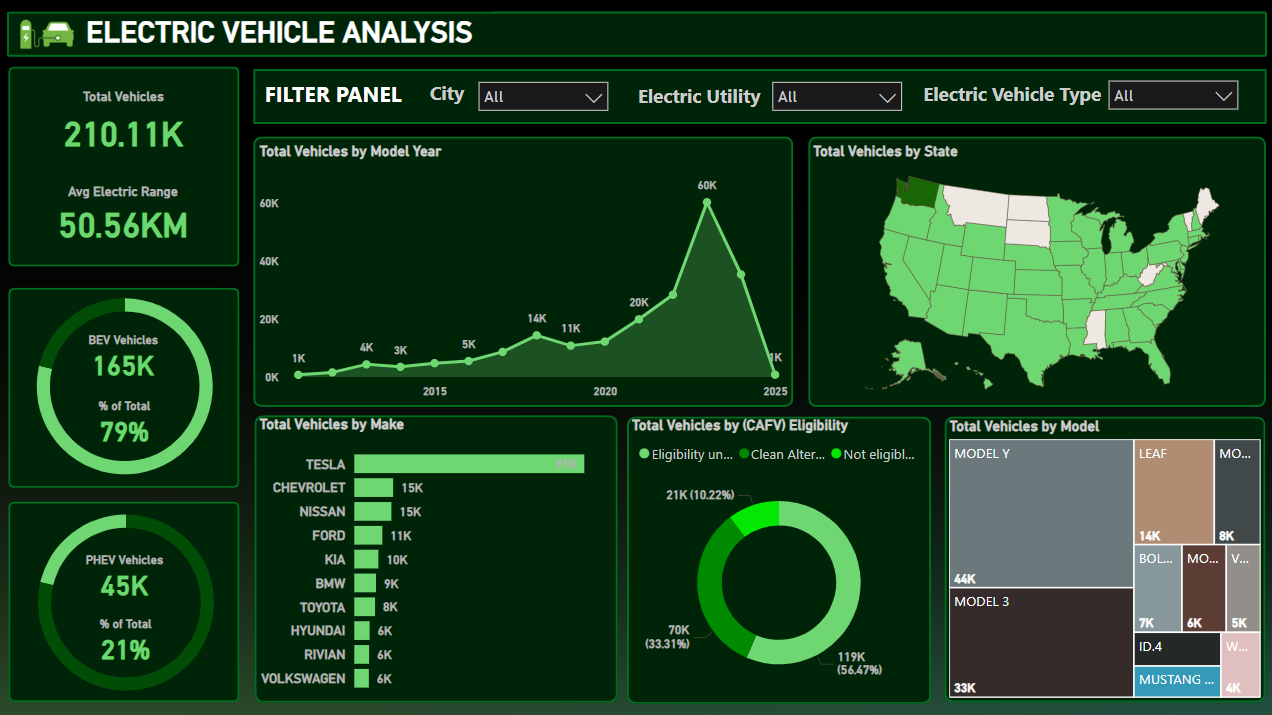

This screenshot's page, from the dashboard's own definition file:
{"tool":"powerbi","page":{"name":"Page 1","canvas":[1280,720],"ordinal":0},"visuals":[{"type":"shape","box":[9.5,11.9,1260,45.3],"z":0},{"type":"textbox","box":[78.7,11.5,414.5,46.2],"z":1000},{"type":"shape","box":[11.2,67.9,231.3,200.3],"z":2000},{"type":"card","title":"Total Vehicles","fields":{"Values":["Electric_Vehicle_Population_Data.Total Vehicles"]},"box":[39.3,89.4,175.2,70.3],"z":3000},{"type":"card","title":"Avg Electric Range","fields":{"Values":["Electric_Vehicle_Population_Data.Avg Range"]},"box":[54.8,184.8,141.9,63.2],"z":4000},{"type":"shape","box":[10.7,288.5,231.3,200.3],"z":5000},{"type":"shape","box":[11,503,231.3,200.7],"z":6000},{"type":"donutChart","fields":{"Category":["Electric_Vehicle_Population_Data.Electric Vehicle Type"],"Y":["Electric_Vehicle_Population_Data.Total Vehicles"]},"box":[0,272.9,255.8,230.1],"z":7000},{"type":"card","title":"BEV Vehicles ","fields":{"Values":["Electric_Vehicle_Population_Data.BEV Vehicles"]},"box":[36.7,334.1,179.9,50.2],"z":8000},{"type":"card","title":"% of Total","fields":{"Values":["Electric_Vehicle_Population_Data.% of BEV"]},"box":[37.9,400.2,179.9,50.2],"z":9000},{"type":"donutChart","fields":{"Category":["Electric_Vehicle_Population_Data.Electric Vehicle Type"],"Y":["Electric_Vehicle_Population_Data.Total Vehicles"]},"box":[1.2,488.4,255.8,230.1],"z":10000},{"type":"card","title":"PHEV Vehicles ","fields":{"Values":["Electric_Vehicle_Population_Data.PHEV Vehicles"]},"box":[37.9,553.2,179.9,50.2],"z":11000},{"type":"card","title":"% of Total","fields":{"Values":["Electric_Vehicle_Population_Data.% of PHEV"]},"box":[39.2,618.1,179.9,50.2],"z":12000},{"type":"shape","box":[255.8,69.8,1013.4,55.1],"z":13000},{"type":"shape","box":[255.8,137.1,540,270.5],"z":14000},{"type":"areaChart","fields":{"Category":["Electric_Vehicle_Population_Data.Model Year"],"Y":["Electric_Vehicle_Population_Data.Total Vehicles"]},"box":[257.5,144.2,538.8,263.4],"z":15000},{"type":"shape","box":[811.8,137.1,457.7,270.6],"z":16000},{"type":"shapeMap","fields":{"Category":["Electric_Vehicle_Population_Data.State"],"Value":["Electric_Vehicle_Population_Data.Total Vehicles"]},"box":[811.8,144.2,468.5,263.4],"z":17000},{"type":"shape","box":[258,416.5,363.2,287.5],"z":18000},{"type":"clusteredBarChart","fields":{"Category":["Electric_Vehicle_Population_Data.Make"],"Y":["Electric_Vehicle_Population_Data.Total Vehicles"]},"box":[258,416.5,363.2,287.5],"z":19000},{"type":"shape","box":[629.6,417.9,304.3,287.5],"z":20000},{"type":"donutChart","title":"Total Vehicles by (CAFV) Eligibility","fields":{"Category":["Electric_Vehicle_Population_Data.Clean Alternative Fuel Vehicle (CAFV) Eligibility"],"Y":["Electric_Vehicle_Population_Data.Total Vehicles"]},"box":[629.6,417.9,304.3,286.1],"z":21000},{"type":"shape","box":[947.9,417.9,321.1,286.1],"z":22000},{"type":"treemap","fields":{"Group":["Electric_Vehicle_Population_Data.Model"],"Values":["Electric_Vehicle_Population_Data.Total Vehicles"]},"box":[947.9,419.3,321.1,284.7],"z":23000},{"type":"textbox","box":[257.5,75.1,157.3,44.1],"z":24000},{"type":"slicer","fields":{"Values":["Electric_Vehicle_Population_Data.City"]},"box":[470.9,72.7,150.2,52.4],"z":25000},{"type":"textbox","box":[419.6,76.3,59.6,42.9],"z":26000},{"type":"slicer","fields":{"Values":["Electric_Vehicle_Population_Data.Electric Utility"]},"box":[765.5,72.7,150.2,52.4],"z":27000},{"type":"textbox","box":[629.4,78.7,144.2,41.7],"z":28000},{"type":"slicer","fields":{"Values":["Electric_Vehicle_Population_Data.Electric Vehicle Type"]},"box":[1101.4,71.5,150.2,52.4],"z":29000},{"type":"textbox","box":[916.7,77.5,197.9,41.7],"z":30000},{"type":"image","box":[7.2,0,87,67.9],"z":31000}]}

Visuals, with their boxes in screenshot pixels (x1, y1, x2, y2), scaled from the page's 1280x720 canvas onto the 1272x715 screenshot:
shape: bbox=[9, 12, 1262, 57]
textbox: bbox=[78, 11, 490, 57]
shape: bbox=[11, 67, 241, 266]
"Total Vehicles" card: bbox=[39, 89, 213, 159]
"Avg Electric Range" card: bbox=[54, 184, 195, 246]
shape: bbox=[11, 286, 240, 485]
shape: bbox=[11, 500, 241, 699]
donutChart - Electric_Vehicle_Population_Data.Electric Vehicle Type x Electric_Vehicle_Population_Data.Total Vehicles: bbox=[0, 271, 254, 500]
"BEV Vehicles " card: bbox=[36, 332, 215, 382]
"% of Total" card: bbox=[38, 397, 216, 447]
donutChart - Electric_Vehicle_Population_Data.Electric Vehicle Type x Electric_Vehicle_Population_Data.Total Vehicles: bbox=[1, 485, 255, 714]
"PHEV Vehicles " card: bbox=[38, 549, 216, 599]
"% of Total" card: bbox=[39, 614, 218, 664]
shape: bbox=[254, 69, 1261, 124]
shape: bbox=[254, 136, 791, 405]
areaChart - Electric_Vehicle_Population_Data.Model Year x Electric_Vehicle_Population_Data.Total Vehicles: bbox=[256, 143, 791, 405]
shape: bbox=[807, 136, 1262, 405]
shapeMap - Electric_Vehicle_Population_Data.State x Electric_Vehicle_Population_Data.Total Vehicles: bbox=[807, 143, 1271, 405]
shape: bbox=[256, 414, 617, 699]
clusteredBarChart - Electric_Vehicle_Population_Data.Make x Electric_Vehicle_Population_Data.Total Vehicles: bbox=[256, 414, 617, 699]
shape: bbox=[626, 415, 928, 701]
"Total Vehicles by (CAFV) Eligibility" donutChart: bbox=[626, 415, 928, 699]
shape: bbox=[942, 415, 1261, 699]
treemap - Electric_Vehicle_Population_Data.Model x Electric_Vehicle_Population_Data.Total Vehicles: bbox=[942, 416, 1261, 699]
textbox: bbox=[256, 75, 412, 118]
slicer - Electric_Vehicle_Population_Data.City: bbox=[468, 72, 617, 124]
textbox: bbox=[417, 76, 476, 118]
slicer - Electric_Vehicle_Population_Data.Electric Utility: bbox=[761, 72, 910, 124]
textbox: bbox=[625, 78, 769, 120]
slicer - Electric_Vehicle_Population_Data.Electric Vehicle Type: bbox=[1095, 71, 1244, 123]
textbox: bbox=[911, 77, 1108, 118]
image: bbox=[7, 0, 94, 67]
